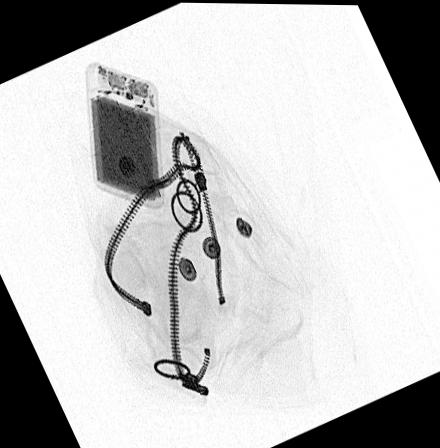Powerbank: (86, 60, 165, 210)
